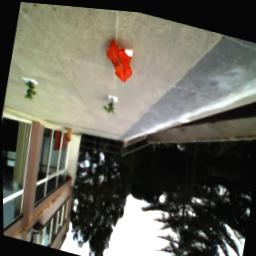herb: (23, 80, 40, 102), (103, 95, 118, 115)
wild: (104, 36, 138, 84)
